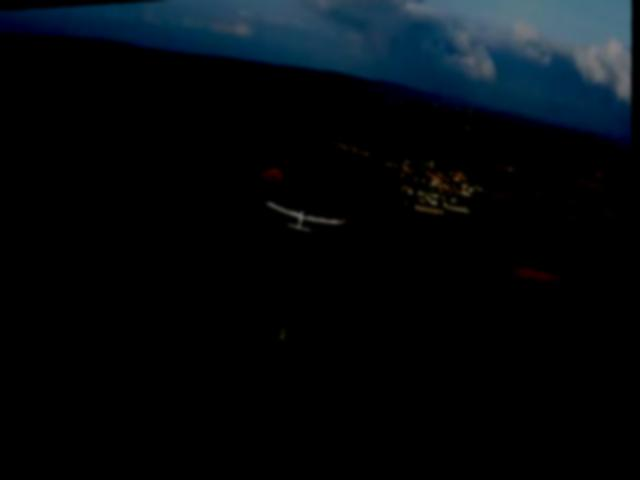iha: (255, 192, 353, 244)
